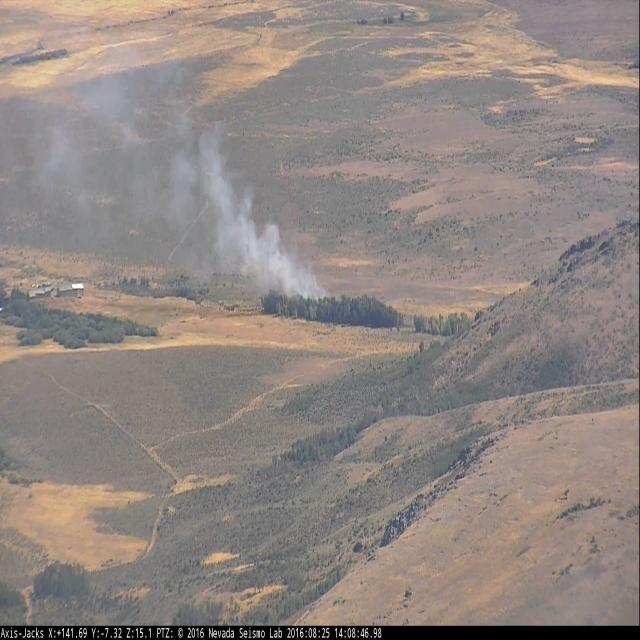smoke: (207, 152, 326, 301)
